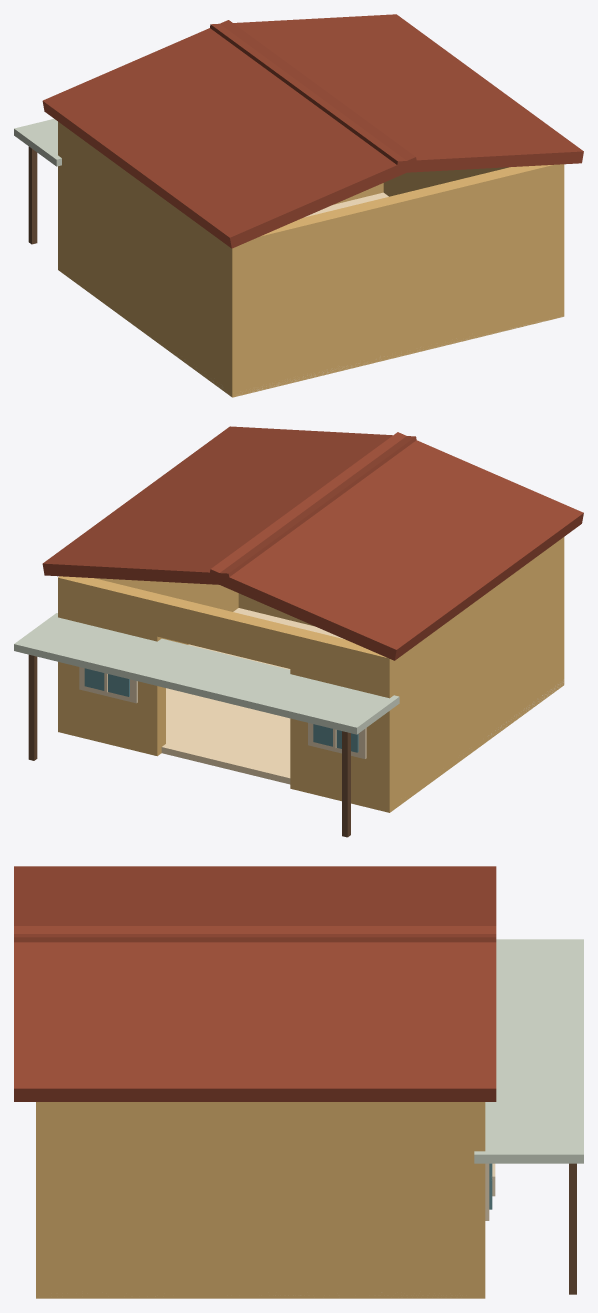
The model's file is house.glb.
3 renders of one model, top to bottom at view 1: azimuth 30°, elevation 25°; view 2: azimuth 150°, elevation 25°; view 3: azimuth 270°, elevation 25°, orthographic. The views are drawn at different scales.
Parts seen in each view (by area): view 1: _MeshInstance3D_208, _MeshInstance3D_224, _MeshInstance3D_225, _MeshInstance3D_211, _MeshInstance3D_214, _MeshInstance3D_227, _MeshInstance3D_228, _MeshInstance3D_226, _MeshInstance3D_217; view 2: _MeshInstance3D_224, _MeshInstance3D_225, _MeshInstance3D_211, _MeshInstance3D_227, _MeshInstance3D_217, _MeshInstance3D_220, _MeshInstance3D_226, _MeshInstance3D_223, _MeshInstance3D_214, _MeshInstance3D_229, _MeshInstance3D_208, _MeshInstance3D_228 (+4 smaller); view 3: _MeshInstance3D_214, _MeshInstance3D_225, _MeshInstance3D_224, _MeshInstance3D_227, _MeshInstance3D_208, _MeshInstance3D_220, _MeshInstance3D_229.
Part boxes in pixels (left/top/right/bottom): _MeshInstance3D_208: left=224, top=164, right=564, bottom=397; _MeshInstance3D_224: left=42, top=20, right=417, bottom=248; _MeshInstance3D_225: left=210, top=14, right=583, bottom=173; _MeshInstance3D_211: left=62, top=124, right=247, bottom=397; _MeshInstance3D_214: left=383, top=164, right=563, bottom=319; _MeshInstance3D_227: left=14, top=119, right=61, bottom=166; _MeshInstance3D_228: left=28, top=146, right=37, bottom=244; _MeshInstance3D_226: left=163, top=192, right=563, bottom=395; _MeshInstance3D_217: left=58, top=122, right=63, bottom=273; _MeshInstance3D_224: left=208, top=432, right=583, bottom=660; _MeshInstance3D_225: left=42, top=426, right=416, bottom=585; _MeshInstance3D_211: left=394, top=537, right=564, bottom=809; _MeshInstance3D_227: left=14, top=613, right=399, bottom=734; _MeshInstance3D_217: left=290, top=628, right=398, bottom=812; _MeshInstance3D_220: left=58, top=576, right=165, bottom=756; _MeshInstance3D_226: left=161, top=608, right=564, bottom=784; _MeshInstance3D_223: left=157, top=595, right=298, bottom=668; _MeshInstance3D_214: left=73, top=577, right=238, bottom=644; _MeshInstance3D_229: left=28, top=654, right=37, bottom=760; _MeshInstance3D_208: left=238, top=538, right=564, bottom=687; _MeshInstance3D_228: left=342, top=731, right=350, bottom=837; _MeshInstance3D_214: left=36, top=1102, right=474, bottom=1298; _MeshInstance3D_225: left=14, top=926, right=496, bottom=1101; _MeshInstance3D_224: left=14, top=866, right=496, bottom=942; _MeshInstance3D_227: left=474, top=939, right=583, bottom=1163; _MeshInstance3D_208: left=36, top=1102, right=57, bottom=1298; _MeshInstance3D_220: left=463, top=1102, right=485, bottom=1298; _MeshInstance3D_229: left=569, top=1163, right=576, bottom=1294.
Size of the model in its own units: 9.6 by 5.29 by 10.4.
